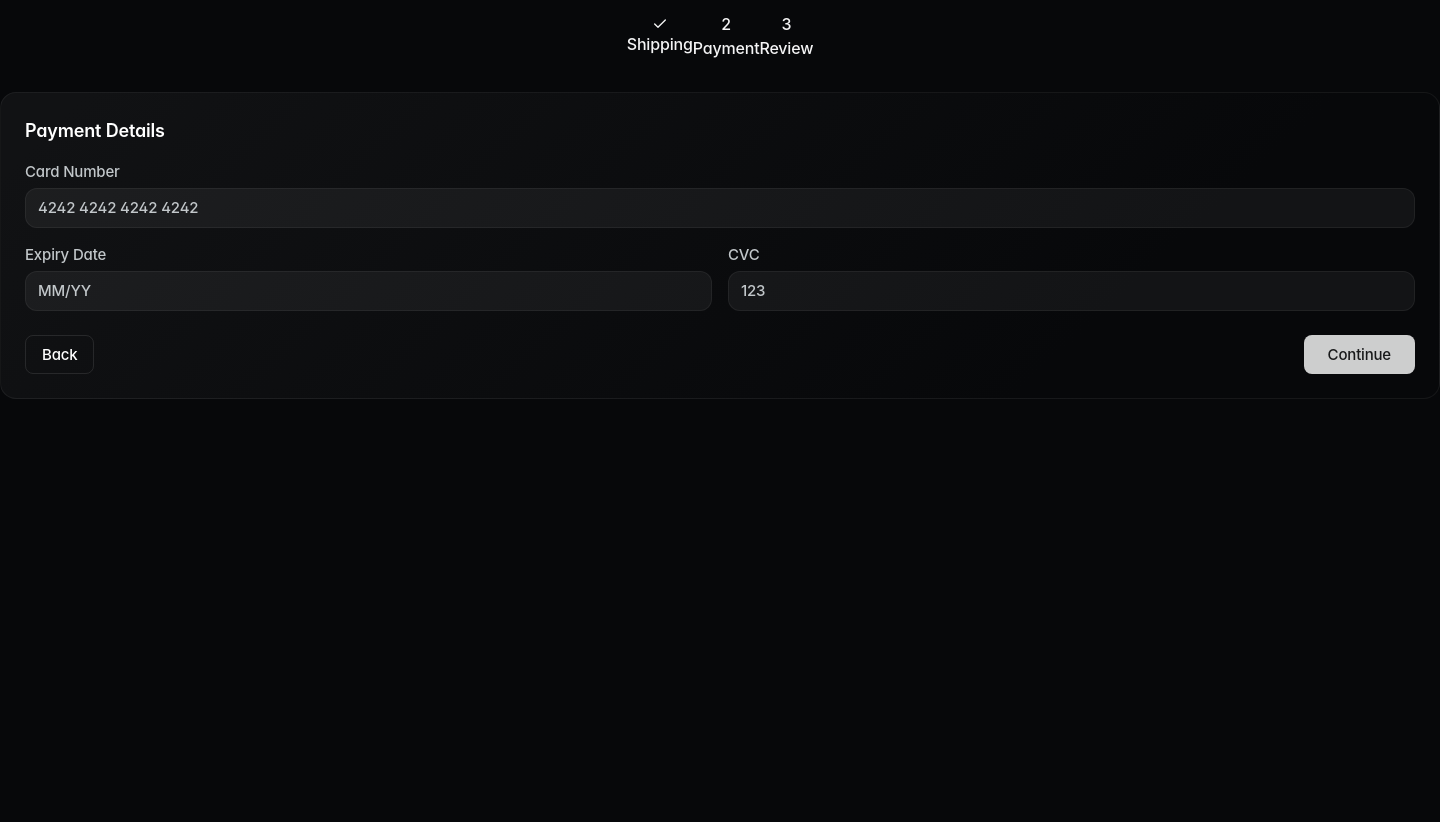
CheckoutForm › step navigation › goes back to shipping when Back is clicked from payment
Expected: the heading "Payment Details" is shown, [25,120,165,141]
What coordinates should you click on to do the following:
click the button "Back"
I would click on:
 (60, 354)
Its box is [25,335,94,374].
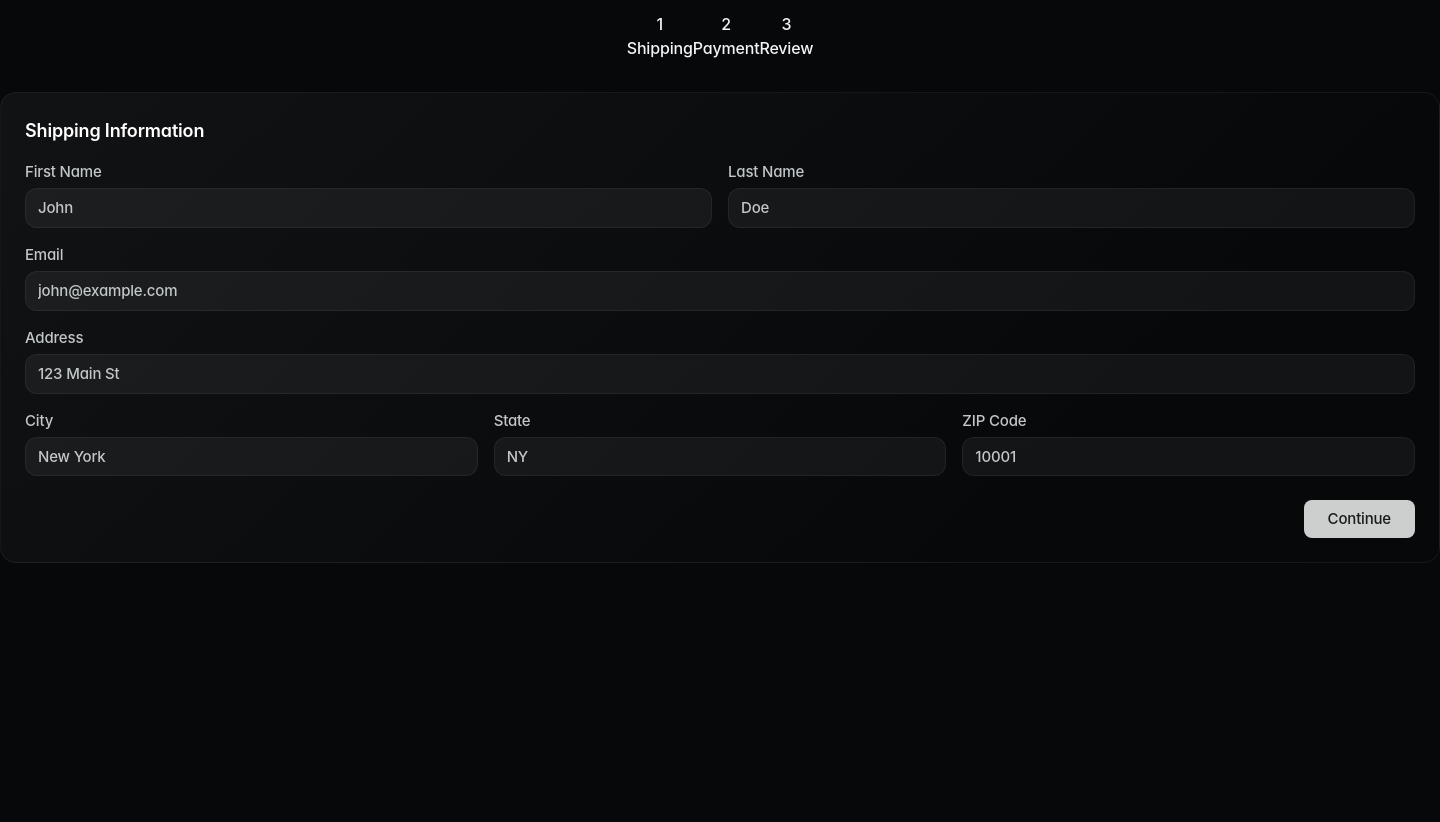
Expected: the heading "Shipping Information" is shown, [25,120,204,141]
